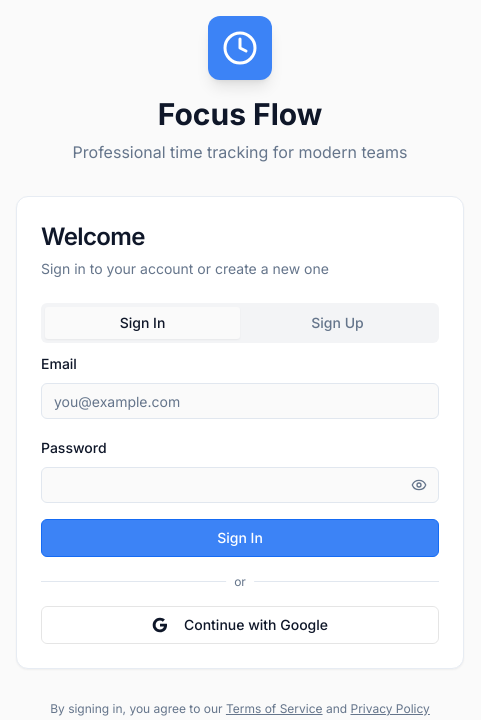
it: Login Page › Plan Selection › should allow selecting paid plan
This screenshot has width=481, height=720.
Click the tab with test id "tab-signup" at (338, 323), box [240, 307, 435, 339]
(page scrolled)
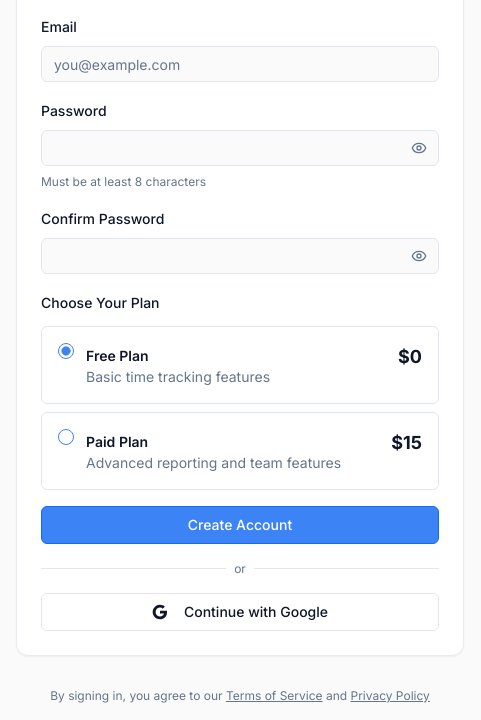
Click the radio button with test id "radio-plan-paid" at (66, 437), box [58, 429, 74, 445]
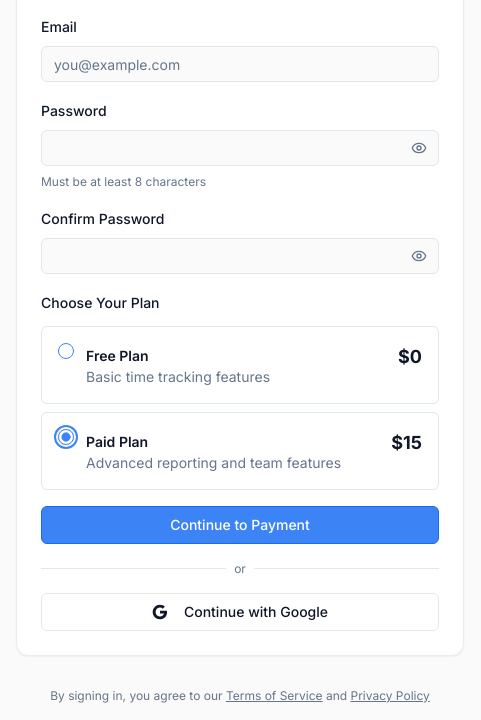
Expected: the radio button with test id "radio-plan-paid" is checked, [58, 429, 74, 445]
Expected: the button with test id "button-signup" reads "Continue to Payment", [41, 506, 439, 544]
